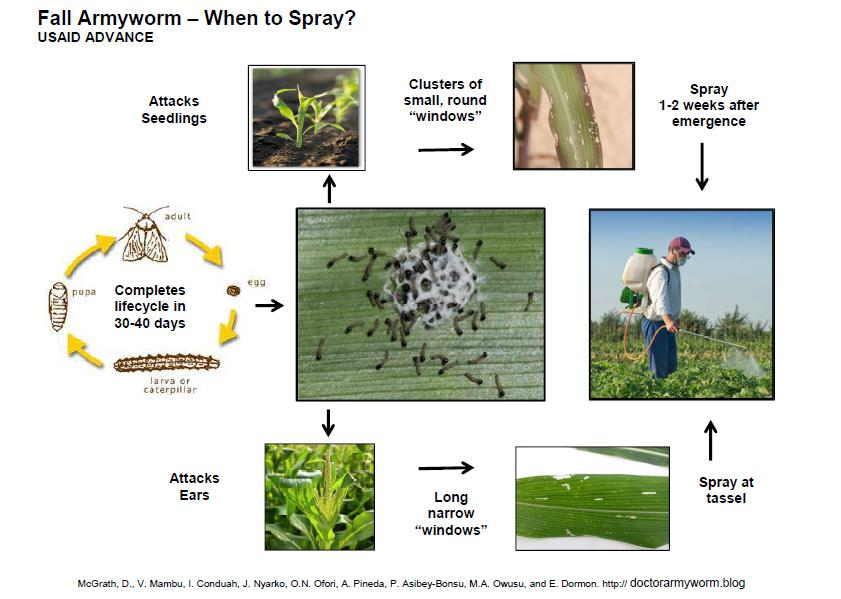eggs: (379, 237, 492, 330)
larva: (105, 347, 237, 376)
moth: (116, 201, 176, 269)
pupa: (40, 279, 85, 334)
